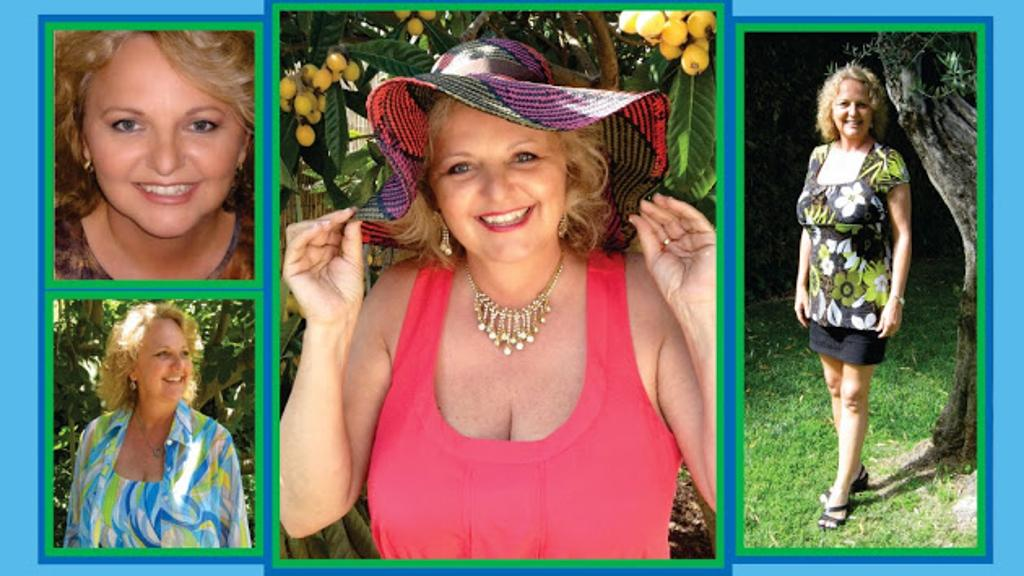face: (82, 37, 243, 237), (428, 101, 565, 262), (137, 319, 192, 400), (831, 78, 871, 138)
